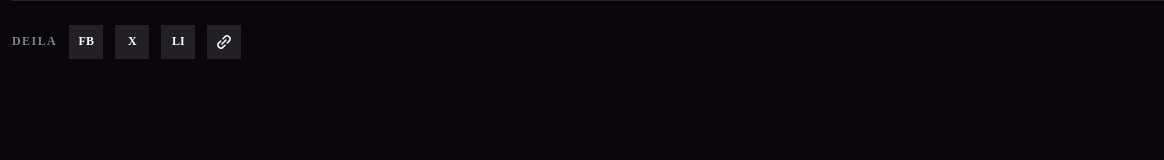
Test case: ShareRow › copies the article URL and says so
Click the button named "Afrita hlekk" at (224, 42), box [207, 25, 241, 59]
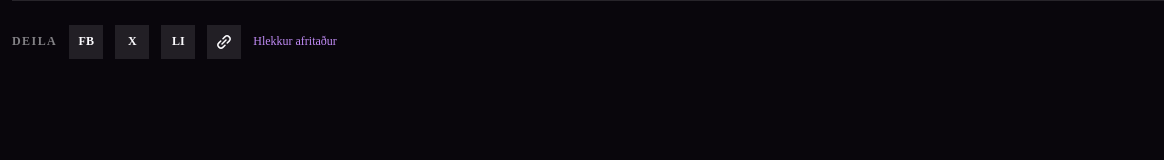
expect the message reads "Hlekkur afritaður": met, box [253, 34, 337, 48]
